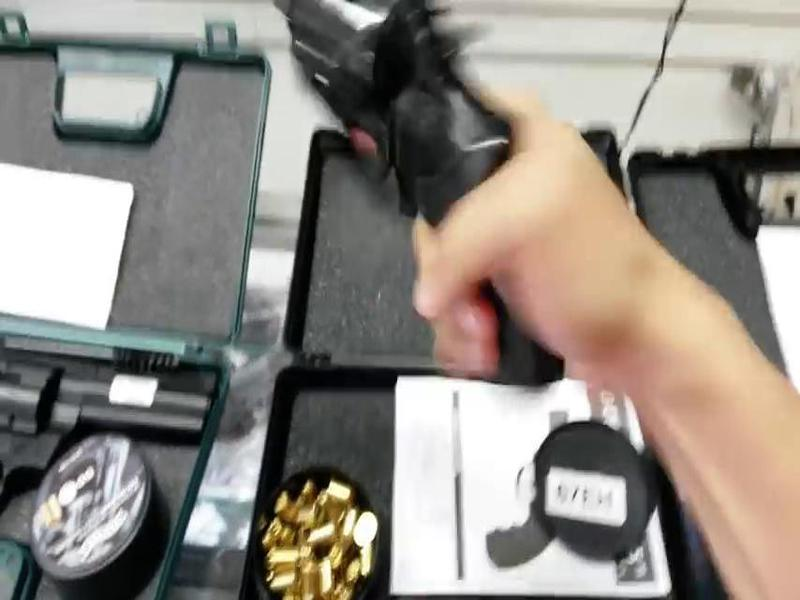Revolver: (147, 1, 573, 366)
